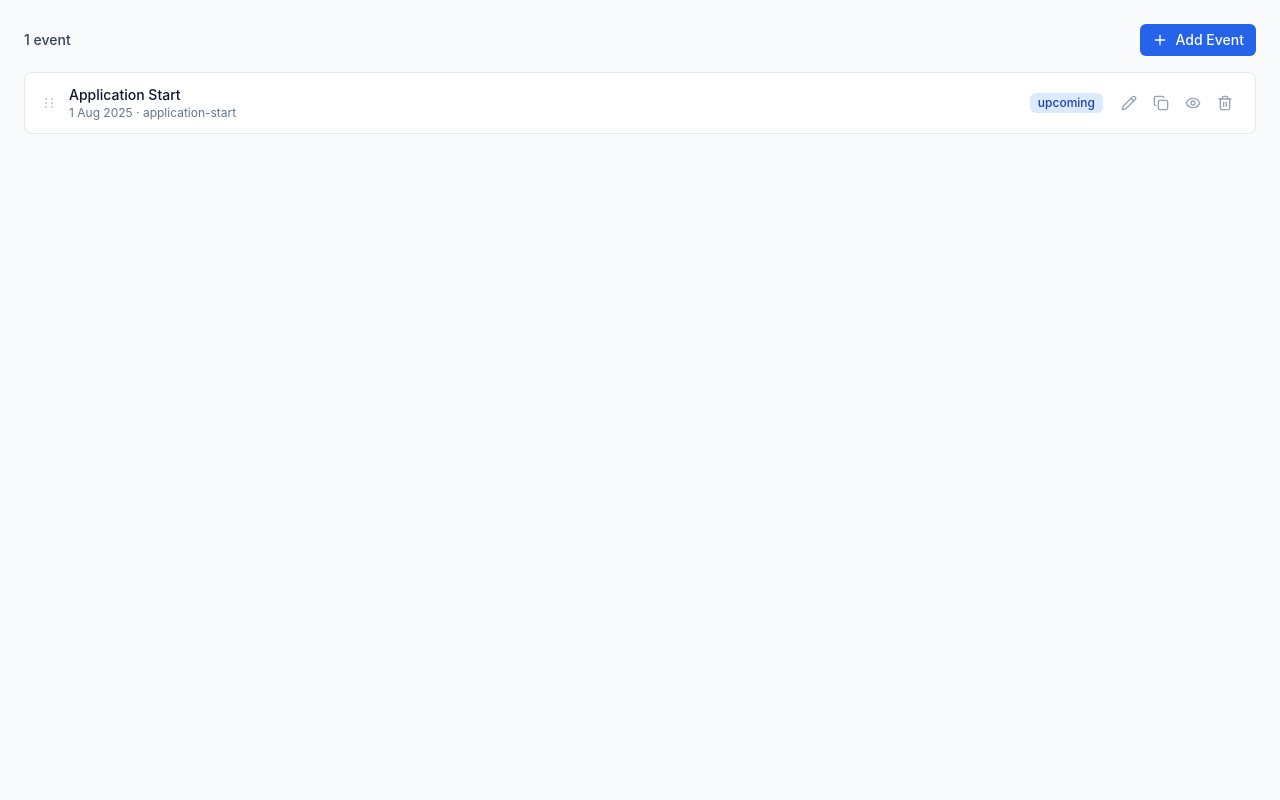
Test: delete › clicking Delete opens ConfirmDialog
The width and height of the screenshot is (1280, 800).
Expected: the heading "1 event" is shown, [24,30,71,50]
Click the button named "delete timeline event".
click(1225, 103)  # box [1211,89,1239,117]
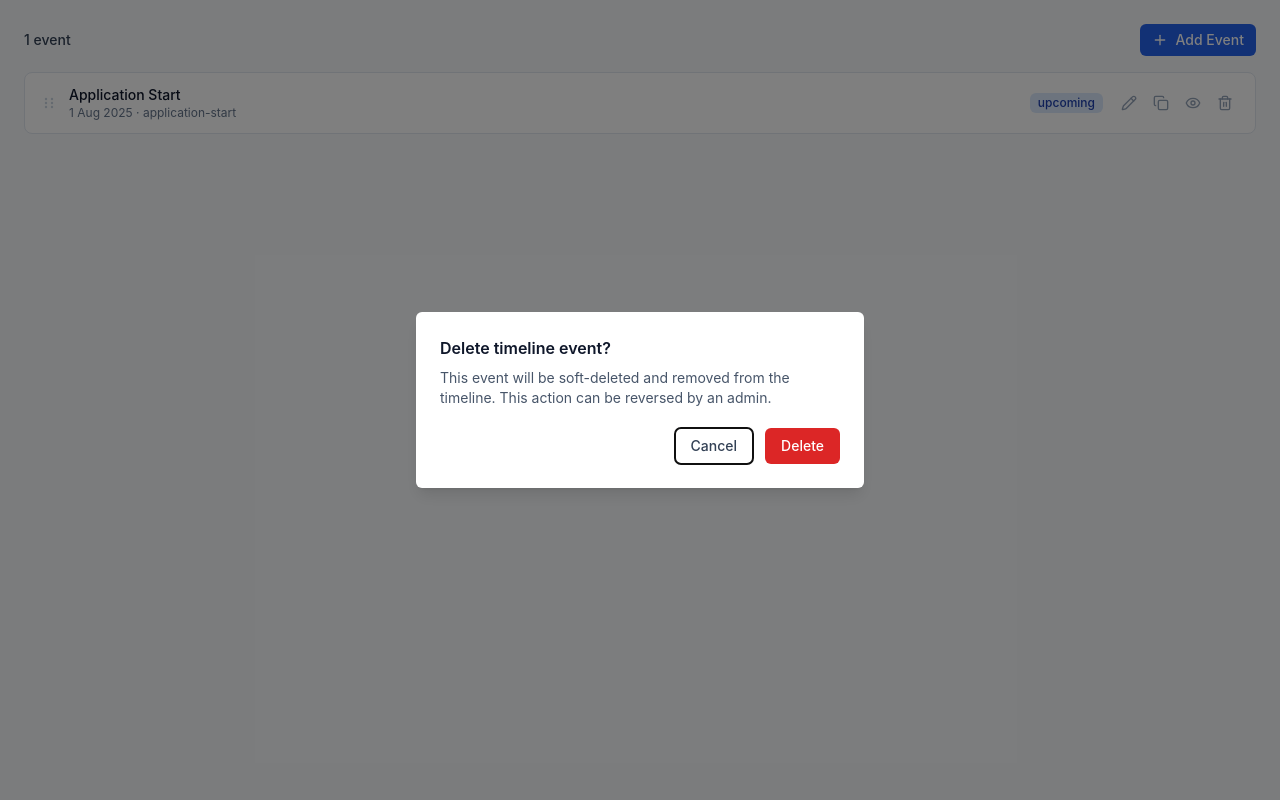
Expected: the heading "Delete timeline event?" is shown, [440,338,611,358]
